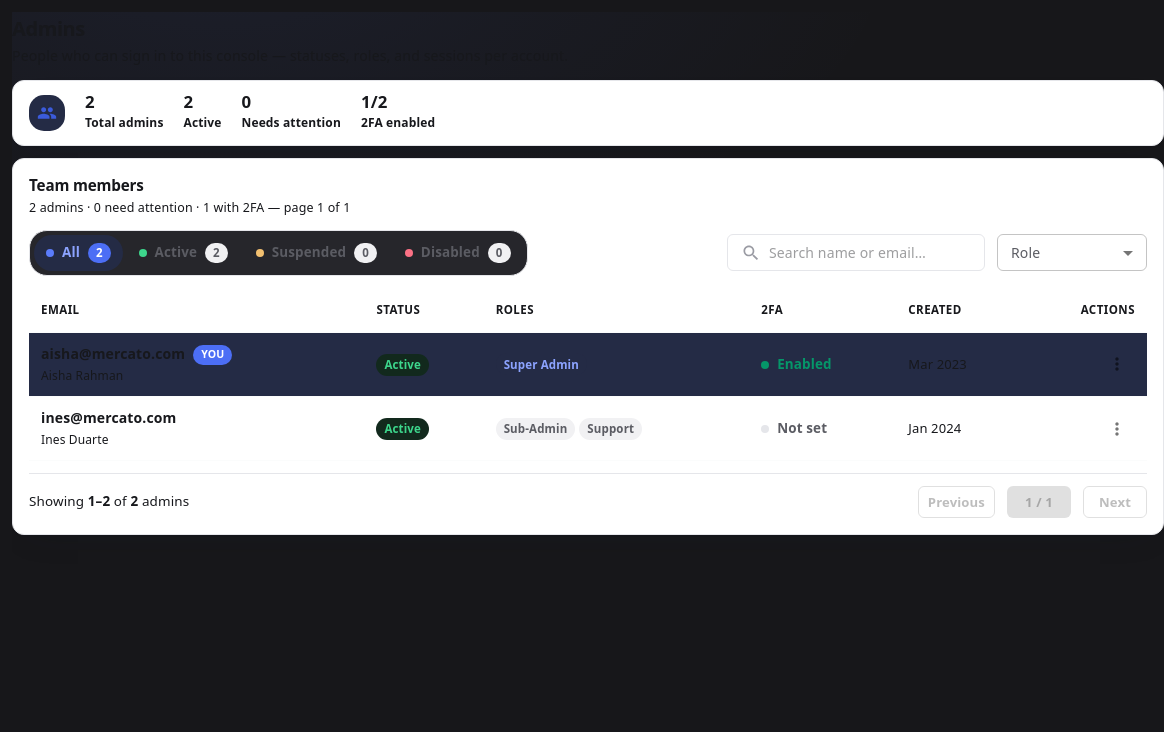
Test: AdminsView (live API wiring) › hides status/roles/revoke row actions without their permissions
Expected: the text "ines@mercato.com" is shown, left=41, top=408, right=176, bottom=427
Click the button named "Actions for ines@mercato.com": (1117, 429) left=1099, top=411, right=1135, bottom=447
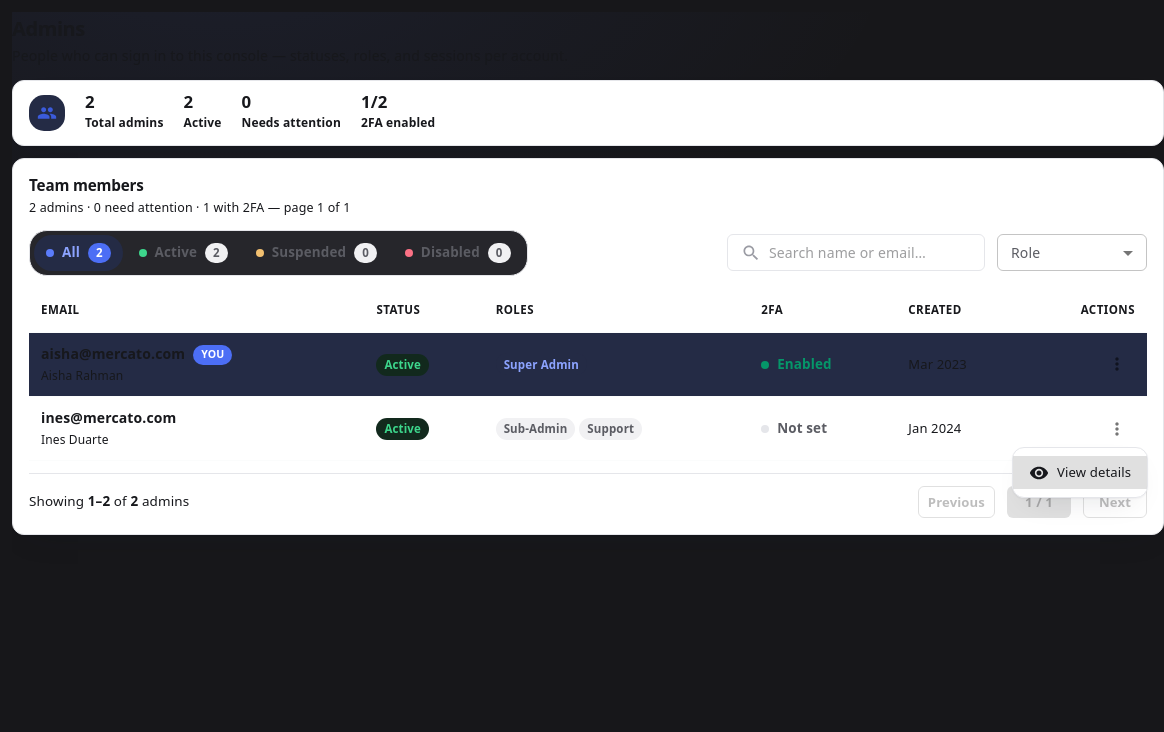
Now the menu item "View details" is shown, box left=1013, top=456, right=1147, bottom=489
